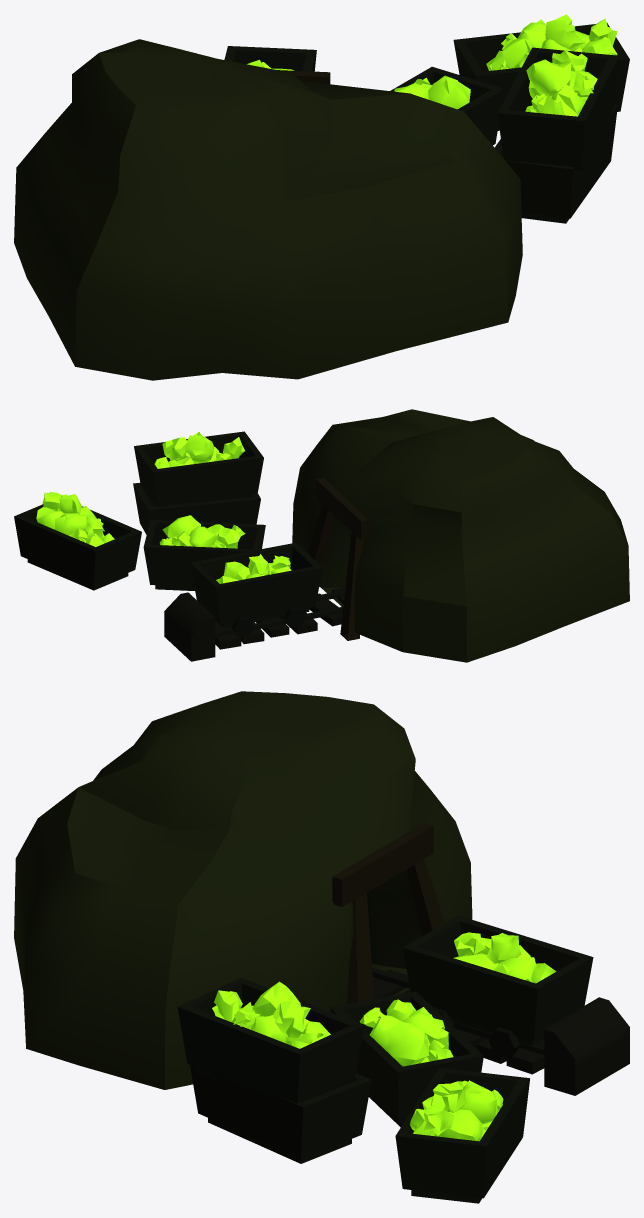
Rendered from SM_UraniumMine.fbx.
3 views of the same model, one above another, from view 1: azimuth 30°, elevation 25°; view 2: azimuth 150°, elevation 25°; view 3: azimuth 270°, elevation 25° (orthographic). The views are drawn at different scales.
Visible parts, largest first — view 1: SM_UraniumMine; view 2: SM_UraniumMine; view 3: SM_UraniumMine.
Part boxes in pixels (x1,y1,x2,y2): SM_UraniumMine: (14,14,629,380); SM_UraniumMine: (14,409,629,662); SM_UraniumMine: (14,691,629,1203).
Bounding box in the file's own units: 100 × 30.48 × 73.77.
